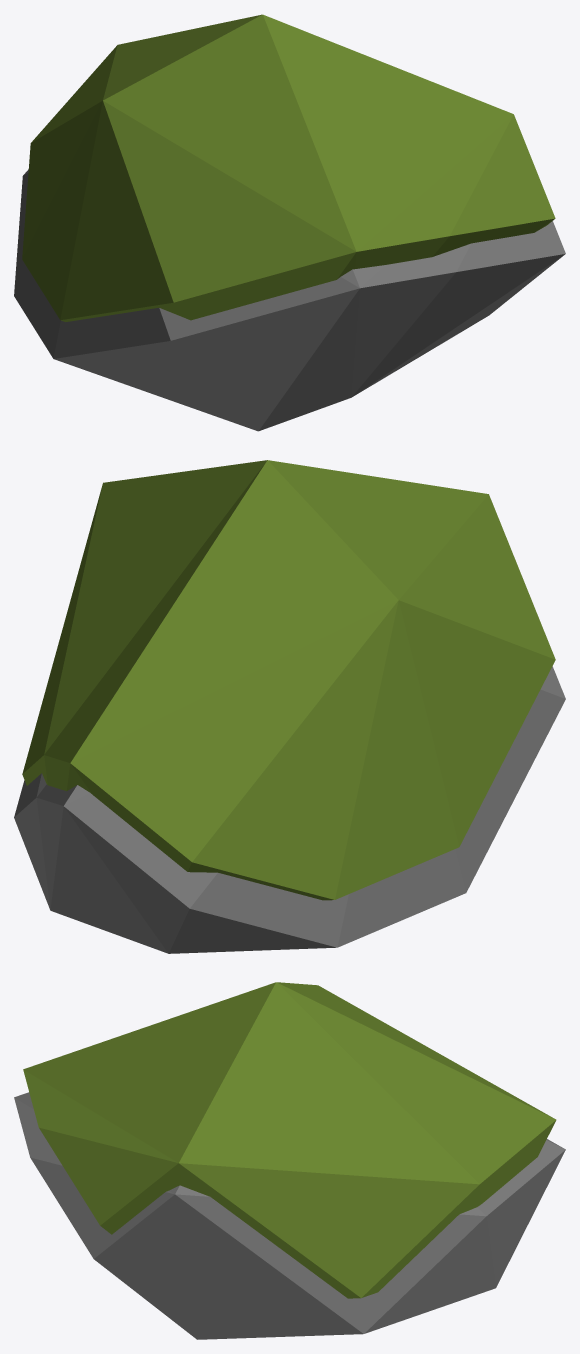
The model's file is Stone_2_moss_vc.fbx.
3 renders of one model, top to bottom at view 1: azimuth 30°, elevation 25°; view 2: azimuth 150°, elevation 25°; view 3: azimuth 270°, elevation 25°, orthographic. The views are drawn at different scales.
Visible parts, largest first — view 1: Stone_2_moss_vc; view 2: Stone_2_moss_vc; view 3: Stone_2_moss_vc.
Boxes of the visible parts, <box> form: Stone_2_moss_vc: <box>14,14,565,431</box>; Stone_2_moss_vc: <box>14,460,565,953</box>; Stone_2_moss_vc: <box>14,982,565,1339</box>.
Size of the model in its own units: 70.91 by 53.91 by 96.81.
